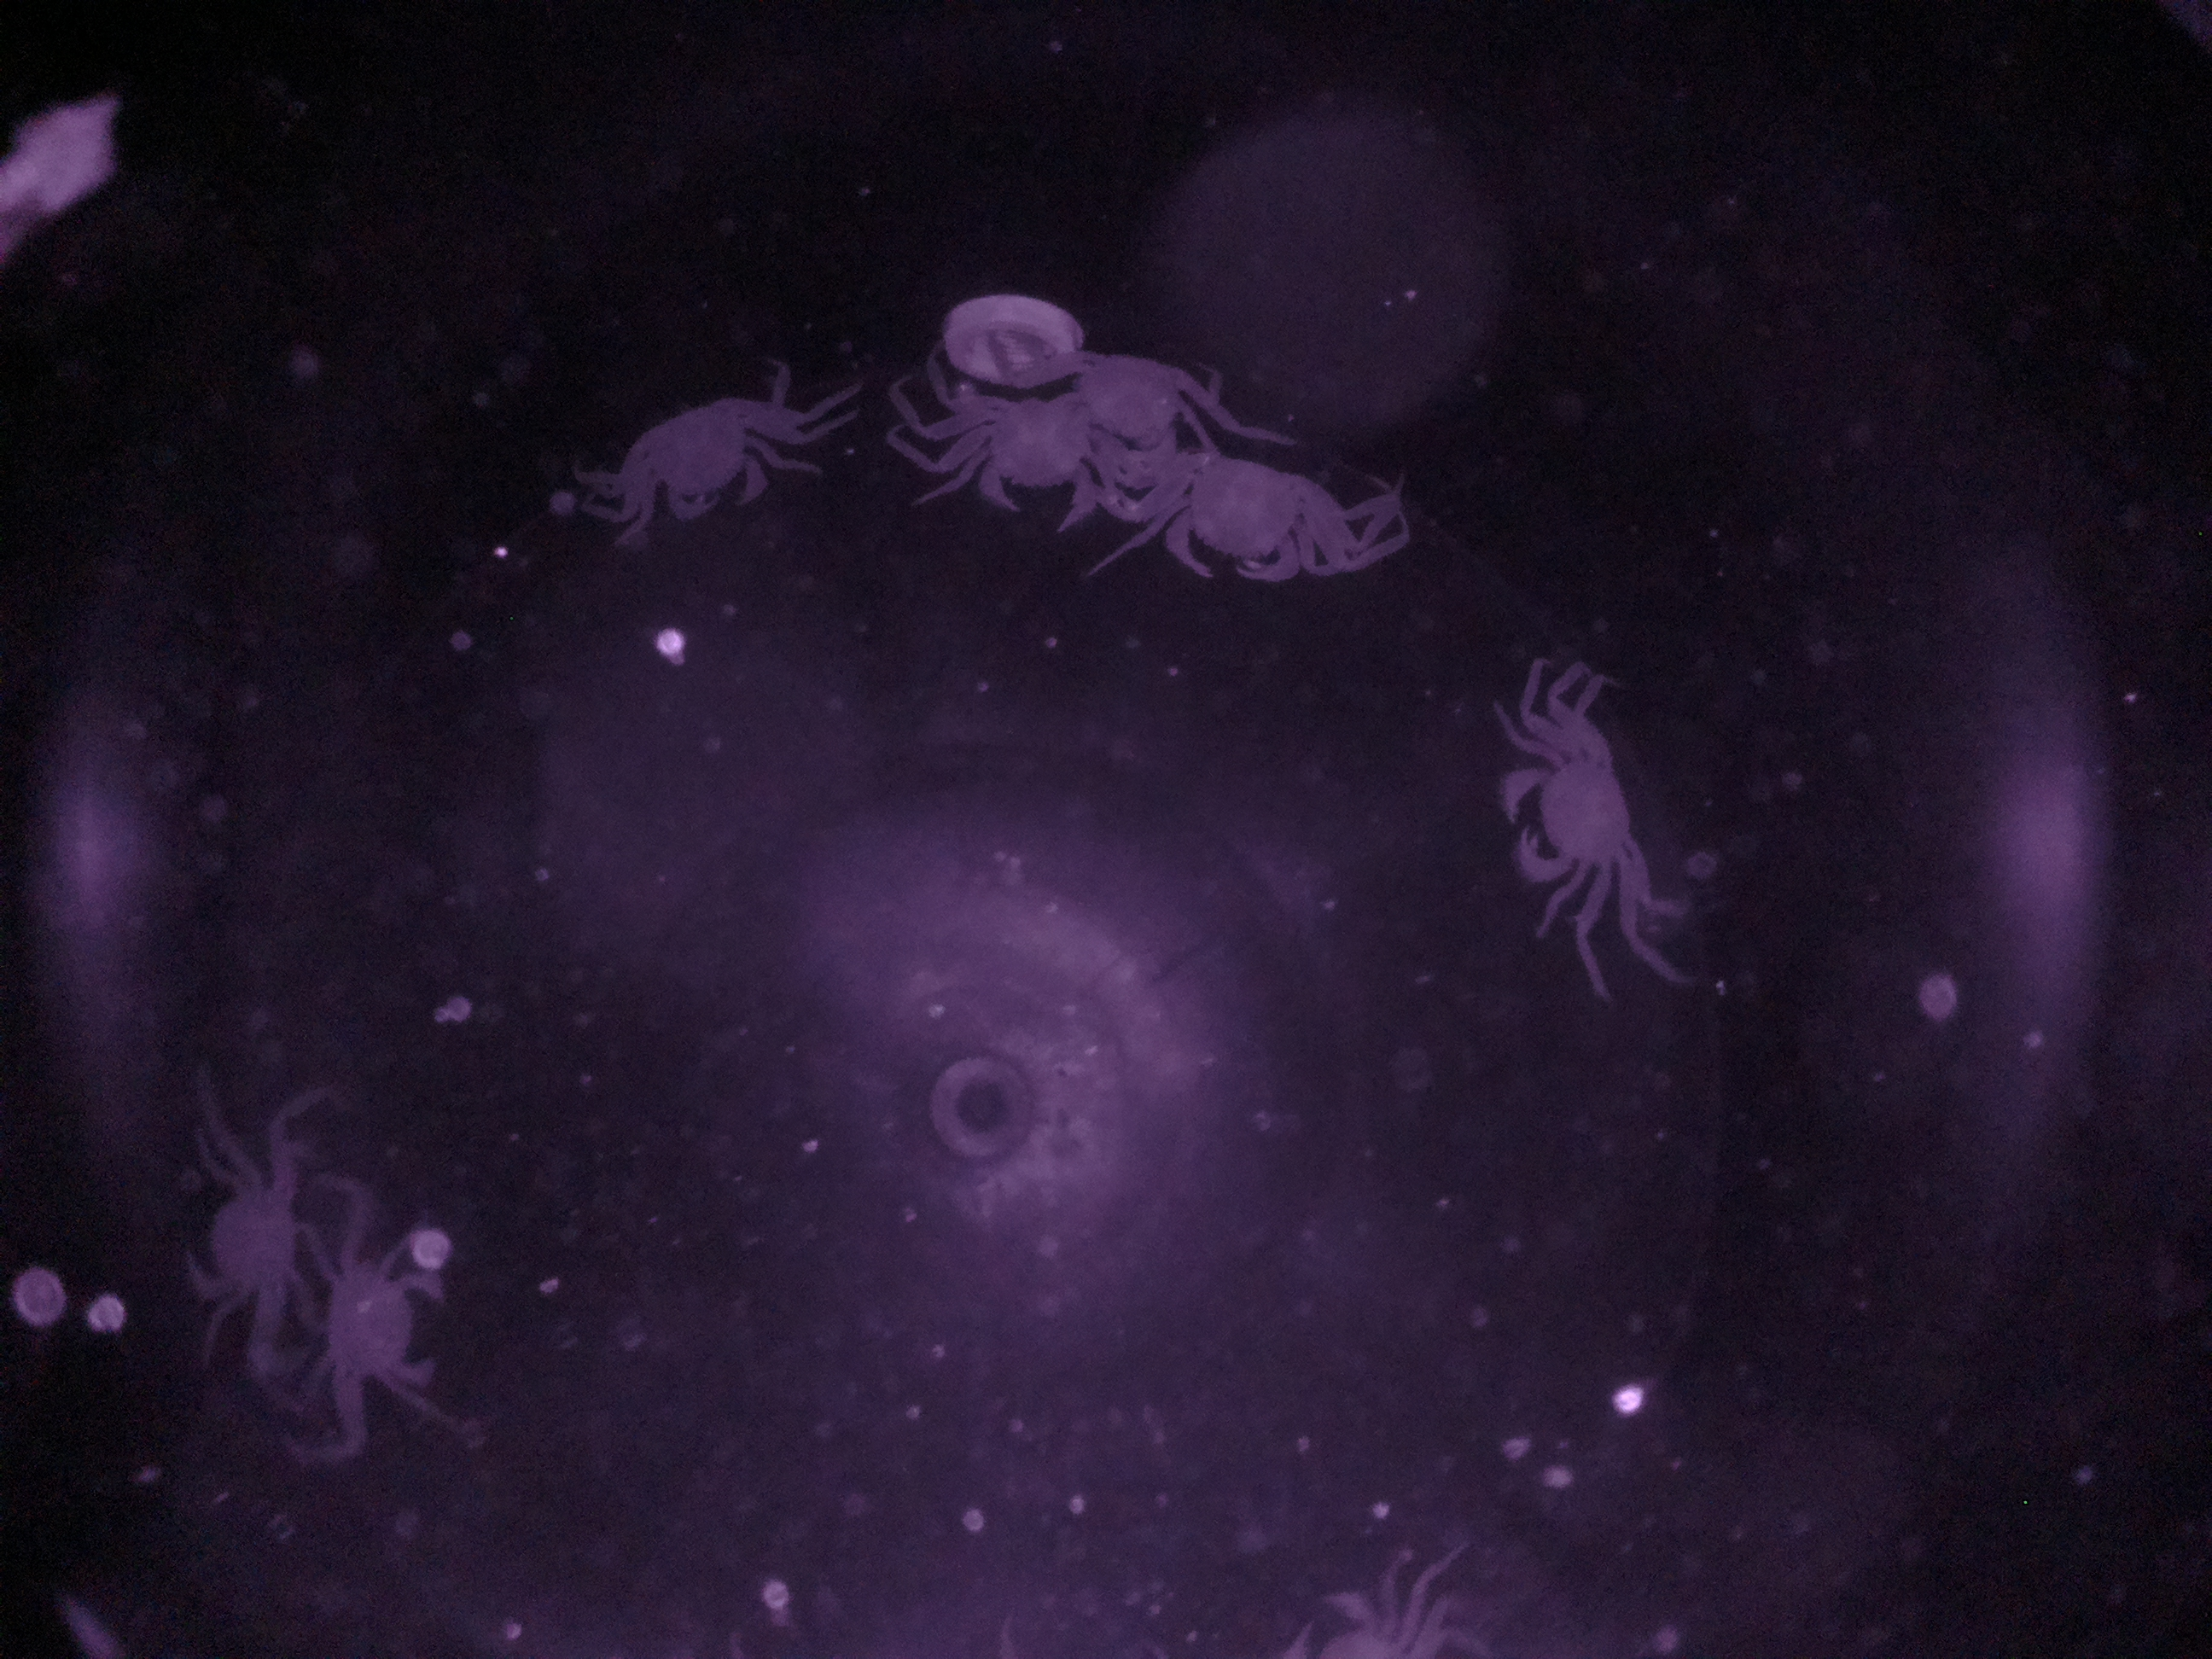Crab: (1482, 714, 1658, 936), (1146, 434, 1362, 613), (615, 378, 827, 551)
